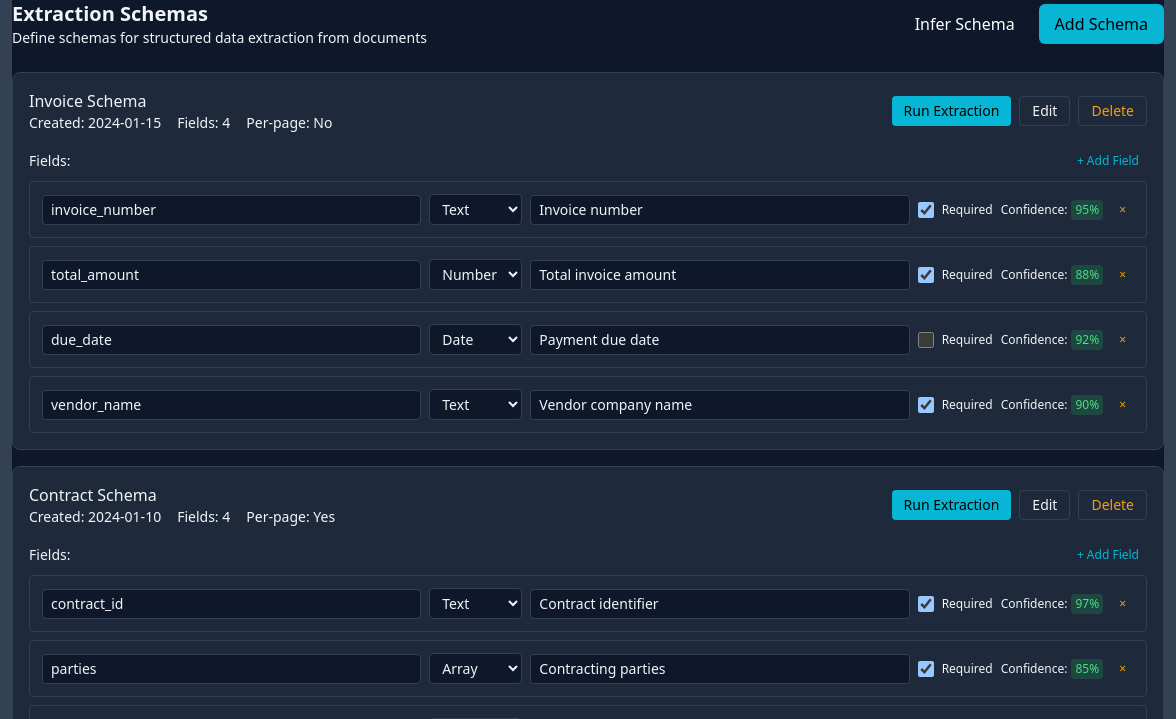
Test: SchemaEditor › shows add schema form when Add Schema button is clicked
Click the button "Add Schema" at point(1101, 24), box [1039,4,1164,44]
(page scrolled)
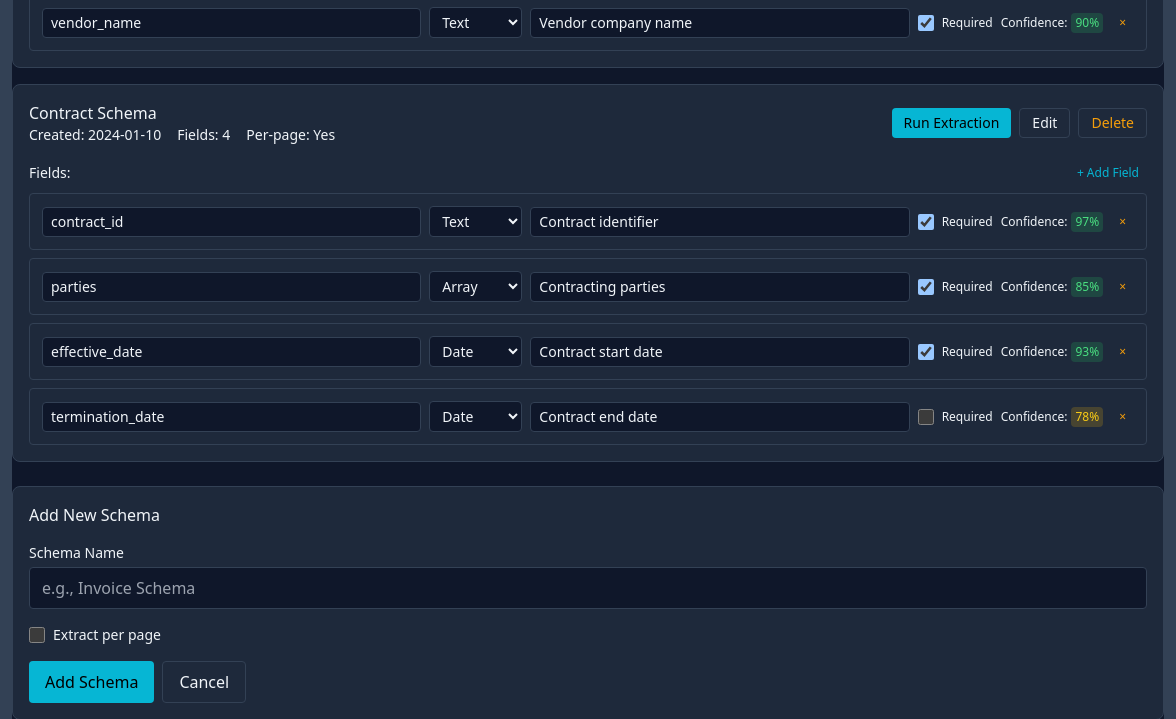
Check: the heading "Add New Schema" is shown, box [29,504,160,526]
Check: the field with placeholder "e.g., Invoice Schema" is shown, box [29,567,1147,609]
Check: the checkbox labelled "Extract per page" is shown, box [29,627,45,643]
